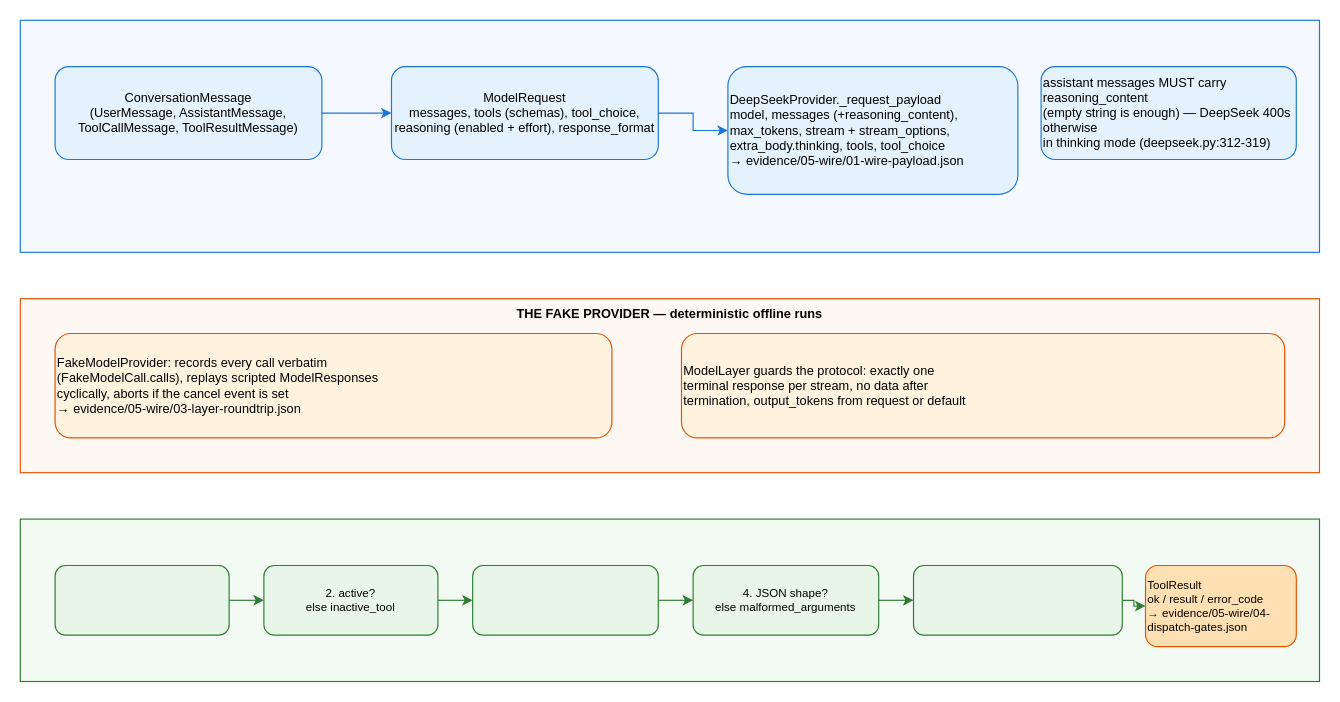
The diagram is 1340 pixels wide and 702 high, and some of its shapes have lost their labels. Each missing label, with the box of its shape:
1. registered? else unknown_tool: (54, 564, 229, 635)
3. policy.allows(effect)? else effect_not_allowed (web = read_only): (472, 564, 658, 635)
5. pre-cancel? 6. handler race (settle before return): (912, 564, 1122, 635)
FROM CONVERSATION TO WIRE (model_layer/): (19, 19, 1320, 252)
TOOL DISPATCH GATES — order matters (agent/tools.py dispatch): (19, 518, 1320, 682)
